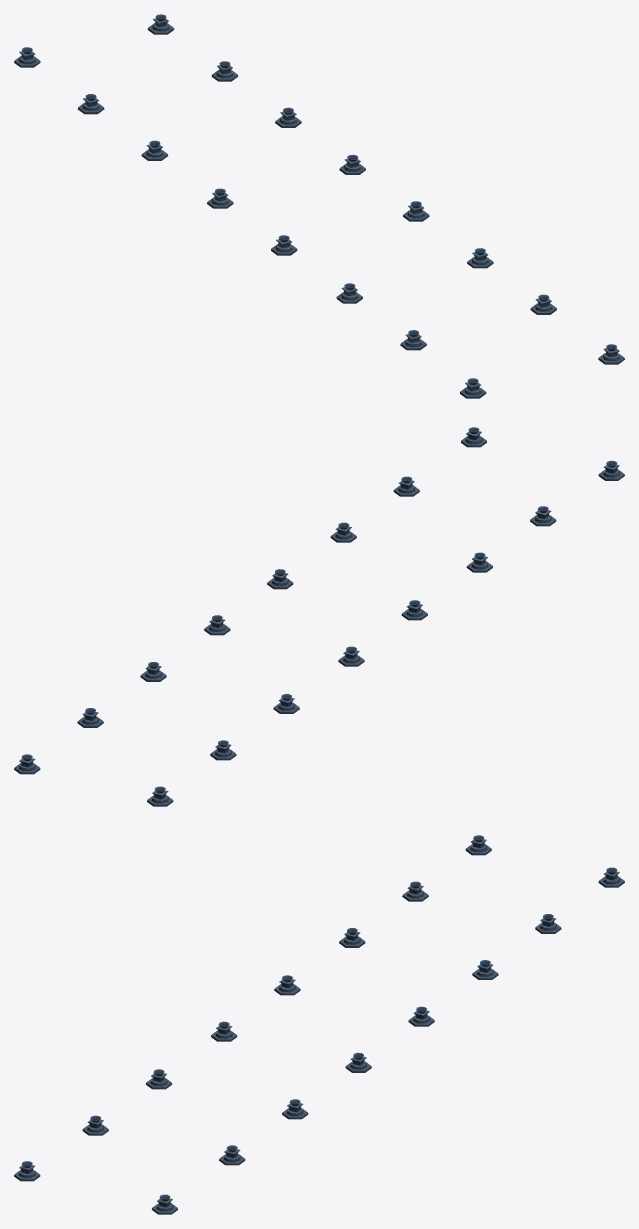
Rendered from wujian02.fbx.
3 views of the same model, one above another, from view 1: azimuth 30°, elevation 25°; view 2: azimuth 150°, elevation 25°; view 3: azimuth 330°, elevation 25° (orthographic).
Visible parts, largest first — view 1: wujian02; view 2: wujian02; view 3: wujian02.
Boxes of the visible parts, left/top/right/bottom form: wujian02: left=14, top=14, right=624, bottom=398; wujian02: left=14, top=427, right=624, bottom=806; wujian02: left=14, top=835, right=624, bottom=1214.
Size of the model in its own units: 1485 by 117 by 7518.
1 material, 1 textured.
